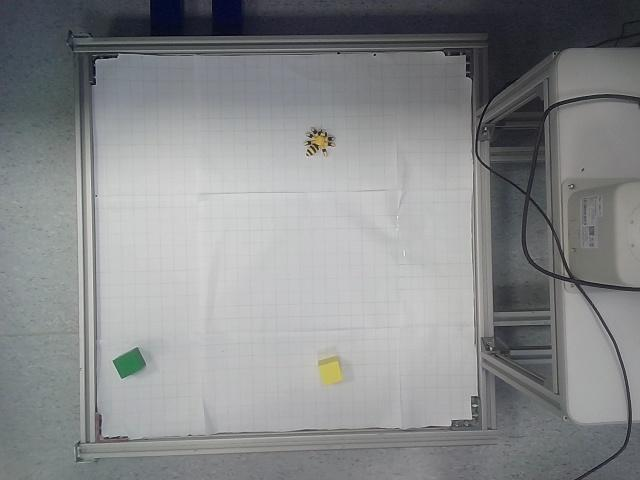frelon: (304, 127, 336, 157)
